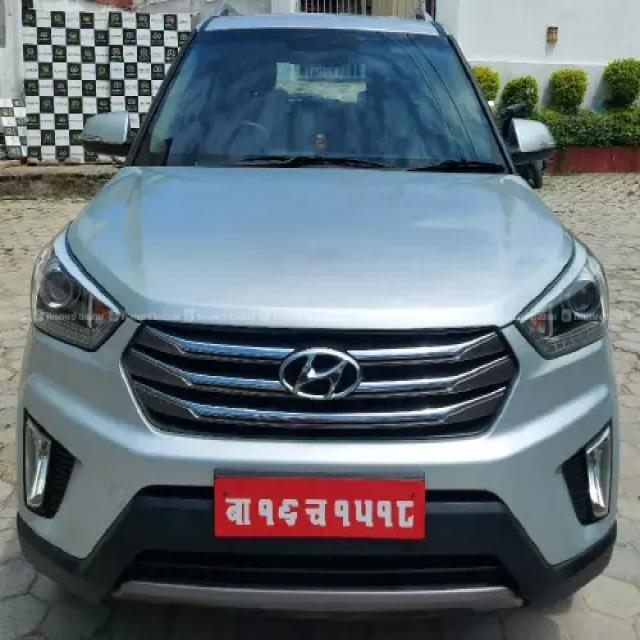License-plate: (208, 467, 425, 537)
